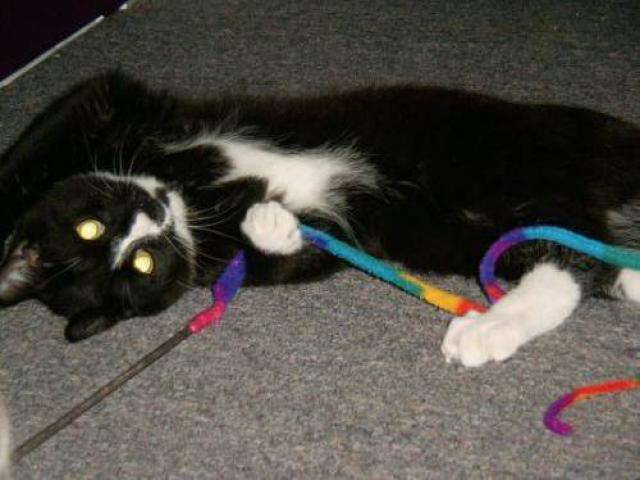cat: (5, 73, 640, 372)
